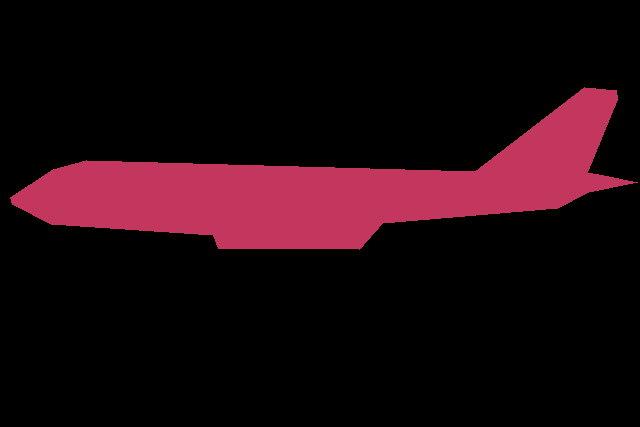Airplane: (10, 87, 637, 250)
